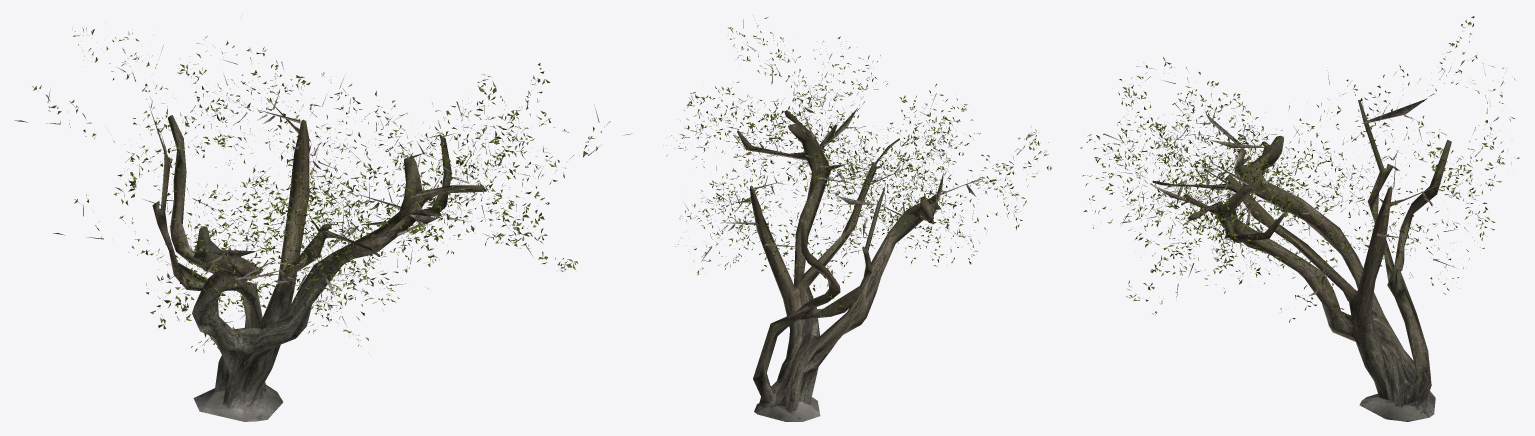
The model's file is tree_far.glb.
The picture shows the model from 3 angles, left to right: view 1: azimuth 30°, elevation 25°; view 2: azimuth 150°, elevation 25°; view 3: azimuth 270°, elevation 25°; orthographic projection. The views are drawn at different scales.
Visible parts, largest first — view 1: island_tree_02_LOD0; view 2: island_tree_02_LOD0; view 3: island_tree_02_LOD0.
Boxes of the visible parts, box(x1,y1,x2,y2) form: island_tree_02_LOD0: box(14, 27, 632, 421); island_tree_02_LOD0: box(663, 15, 1051, 421); island_tree_02_LOD0: box(1080, 16, 1519, 421).
Size of the model in its own units: 4.21 by 3.36 by 3.99.
Materials: 3 (3 with a texture image).
